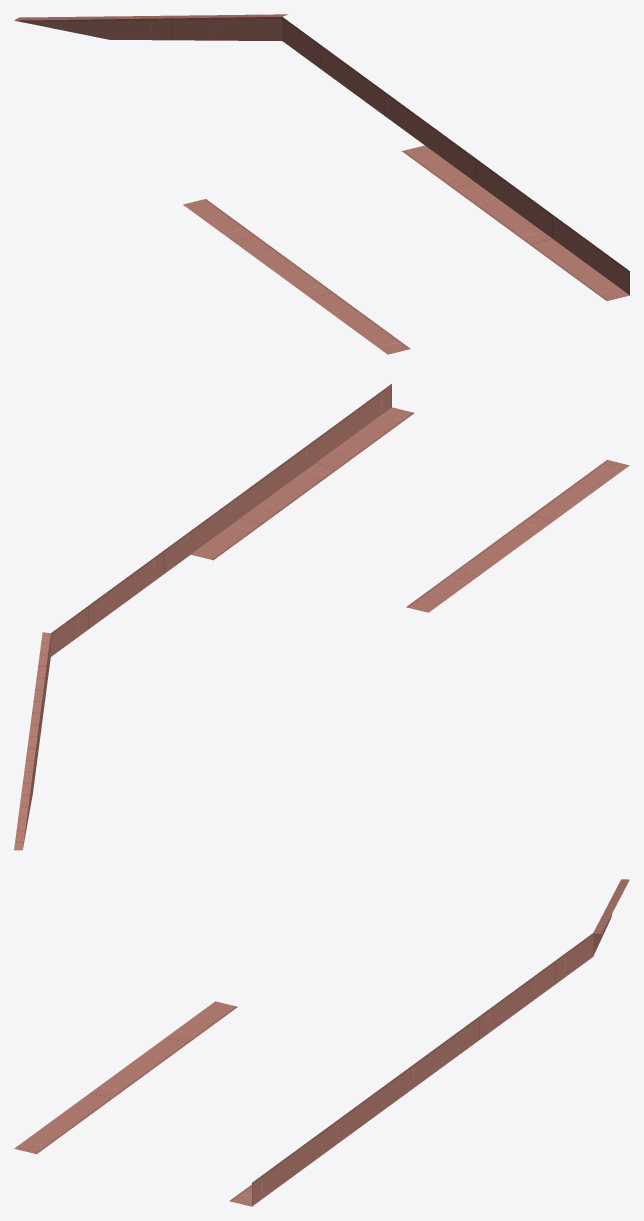
Rendered from kd_stage_135ebf_1_34.glb.
3 renders of one model, top to bottom at view 1: azimuth 30°, elevation 25°; view 2: azimuth 150°, elevation 25°; view 3: azimuth 330°, elevation 25°, orthographic.
Parts seen in each view (by area): view 1: kd_stage_135ebf_1_34; view 2: kd_stage_135ebf_1_34; view 3: kd_stage_135ebf_1_34.
Boxes of the visible parts, x1,y1,x2,y2 form: kd_stage_135ebf_1_34: (14,14,629,354); kd_stage_135ebf_1_34: (14,384,629,850); kd_stage_135ebf_1_34: (14,879,629,1206).
Size of the model in its own units: 3.22 by 1.03 by 11.12.
Materials: 1 (1 with a texture image).
